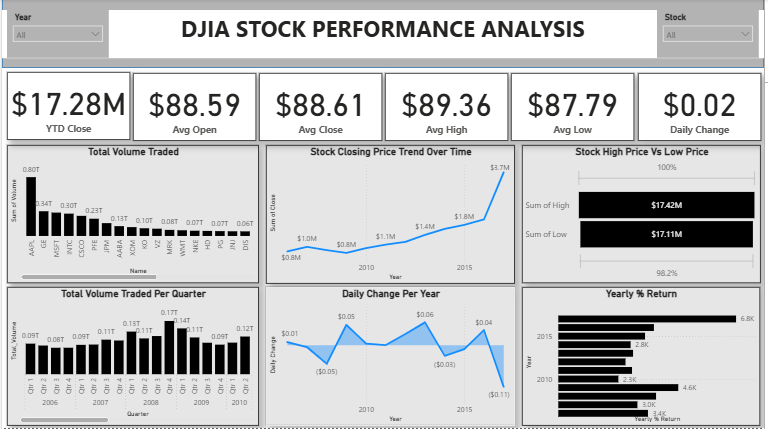

The page's visual inventory and layout, read from the dashboard file:
{"tool":"powerbi","page":{"name":"Page 1","canvas":[1280,720],"ordinal":0},"visuals":[{"type":"shape","box":[0,0,1280,115.9],"z":0},{"type":"textbox","box":[0,18.5,1280,80.6],"z":1000},{"type":"slicer","fields":{"Values":["DJIA 30 Stock Time Series.Name"]},"box":[1100.3,16.8,171.3,82.3],"z":2000},{"type":"slicer","fields":{"Values":["DJIA 30 Stock Time Series.Date.Variation.Date Hierarchy.Year","DJIA 30 Stock Time Series.Date.Variation.Date Hierarchy.Quarter"]},"box":[8.4,16.8,171.3,82.3],"z":3000},{"type":"clusteredColumnChart","title":"Total Volume Traded","fields":{"Y":["Sum(DJIA 30 Stock Time Series.Volume)"],"Category":["DJIA 30 Stock Time Series.Name"]},"box":[8.4,245.2,423.3,231.8],"z":4000},{"type":"lineChart","title":"Stock Closing Price Trend Over Time","fields":{"Category":["DJIA 30 Stock Time Series.Date.Variation.Date Hierarchy.Year"],"Y":["Sum(DJIA 30 Stock Time Series.Close)"]},"box":[443.5,245.2,418.3,233.5],"z":5000},{"type":"funnel","title":"Stock High Price Vs Low Price","fields":{"Y":["Sum(DJIA 30 Stock Time Series.High)","Sum(DJIA 30 Stock Time Series.Low)"]},"box":[873.5,245.2,401.5,231.8],"z":6000},{"type":"clusteredColumnChart","title":"Total Volume Traded Per Quarter","fields":{"Y":["DJIA 30 Stock Time Series.Total_Volume"],"Category":["DJIA 30 Stock Time Series.Date.Variation.Date Hierarchy.Year","DJIA 30 Stock Time Series.Date.Variation.Date Hierarchy.Quarter"]},"box":[8.4,483.8,423.3,233.5],"z":7000},{"type":"areaChart","title":"Daily Change Per Year","fields":{"Category":["DJIA 30 Stock Time Series.Date.Variation.Date Hierarchy.Year","DJIA 30 Stock Time Series.Date.Variation.Date Hierarchy.Quarter","DJIA 30 Stock Time Series.Date.Variation.Date Hierarchy.Month","DJIA 30 Stock Time Series.Date.Variation.Date Hierarchy.Day"],"Y":["DJIA 30 Stock Time Series.Daily_Change"]},"box":[443.5,483.8,418.3,233.5],"z":8000},{"type":"card","fields":{"Values":["Calendar.YTD Close"]},"box":[8.4,122.6,206.6,114.2],"z":13002},{"type":"barChart","title":"Yearly % Return ","fields":{"Category":["DJIA 30 Stock Time Series.Date.Variation.Date Hierarchy.Year"],"Y":["DJIA 30 Stock Time Series.Yearly_Return"]},"box":[873.5,483.8,399.8,233.5],"z":13003},{"type":"card","fields":{"Values":["DJIA 30 Stock Time Series.Avg Open"]},"box":[220.1,124.3,206.6,114.2],"z":13004},{"type":"card","fields":{"Values":["DJIA 30 Stock Time Series.Avg Close"]},"box":[431.7,124.3,206.6,114.2],"z":13005},{"type":"card","fields":{"Values":["DJIA 30 Stock Time Series.Avg High"]},"box":[643.4,124.3,206.6,114.2],"z":13006},{"type":"card","fields":{"Values":["DJIA 30 Stock Time Series.Avg Low"]},"box":[855,124.3,206.6,114.2],"z":13007},{"type":"card","fields":{"Values":["DJIA 30 Stock Time Series.Daily Change"]},"box":[1068.3,124.3,206.6,114.2],"z":13008}]}

Visuals, with their boxes in screenshot pixels (x1, y1, x2, y2), scaled from the page's 1280x720 canvas onto the 768x429 screenshot:
shape: 0:0:767:69
textbox: 0:11:767:59
slicer - DJIA 30 Stock Time Series.Name: 660:10:763:59
slicer - DJIA 30 Stock Time Series.Date.Variation.Date Hierarchy.Year x DJIA 30 Stock Time Series.Date.Variation.Date Hierarchy.Quarter: 5:10:108:59
"Total Volume Traded" clusteredColumnChart: 5:146:259:284
"Stock Closing Price Trend Over Time" lineChart: 266:146:517:285
"Stock High Price Vs Low Price" funnel: 524:146:765:284
"Total Volume Traded Per Quarter" clusteredColumnChart: 5:288:259:427
"Daily Change Per Year" areaChart: 266:288:517:427
card - Calendar.YTD Close: 5:73:129:141
"Yearly % Return " barChart: 524:288:764:427
card - DJIA 30 Stock Time Series.Avg Open: 132:74:256:142
card - DJIA 30 Stock Time Series.Avg Close: 259:74:383:142
card - DJIA 30 Stock Time Series.Avg High: 386:74:510:142
card - DJIA 30 Stock Time Series.Avg Low: 513:74:637:142
card - DJIA 30 Stock Time Series.Daily Change: 641:74:765:142
